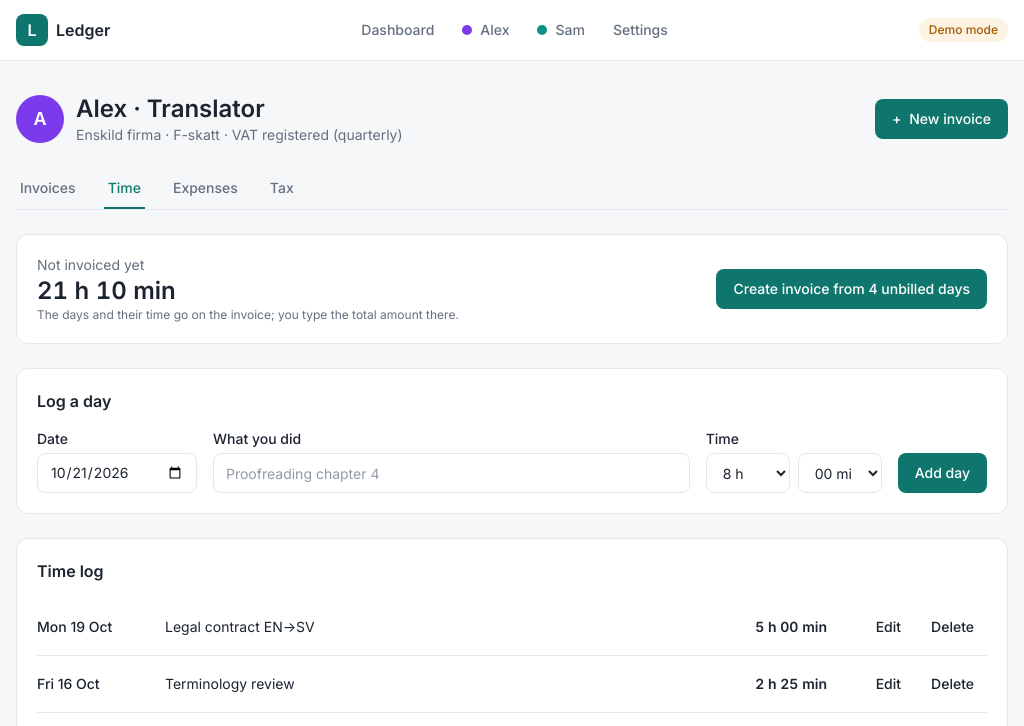
Test case: Invoice editor › lets the translator list days with their time and type one total amount
Step 1. Click the button "Create invoice from 4 unbilled days" → (852,289), box x1=716 y1=269 x2=987 y2=309
(page scrolled)
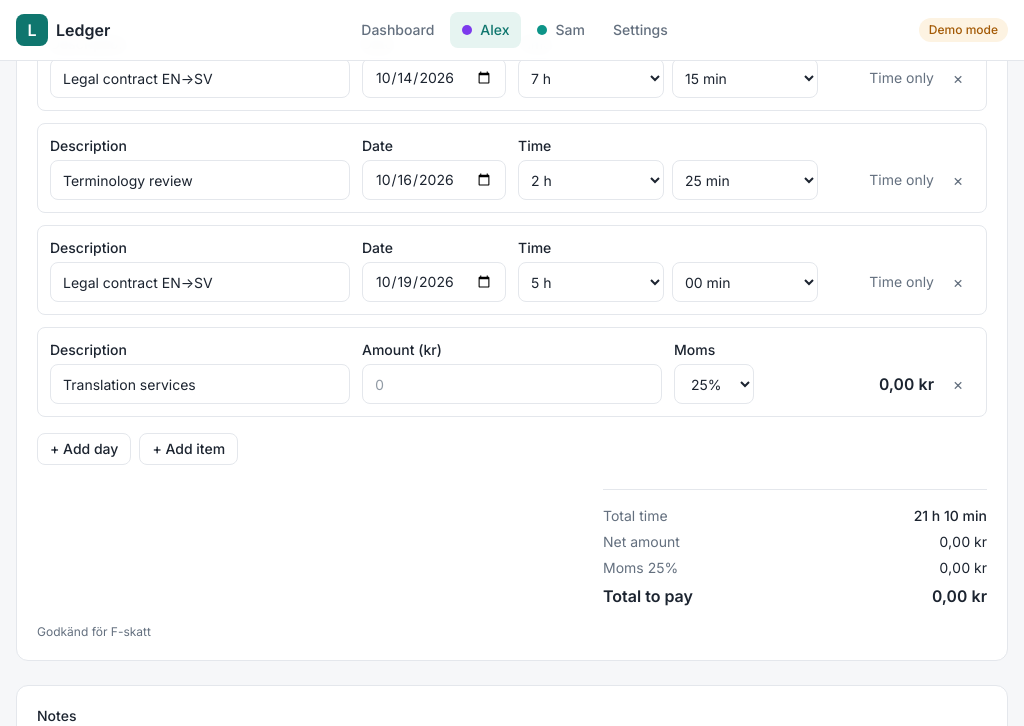
Step 2. Type "15000" into the field labelled "Amount (kr)" → (512,384), box x1=362 y1=364 x2=662 y2=404
(page scrolled)
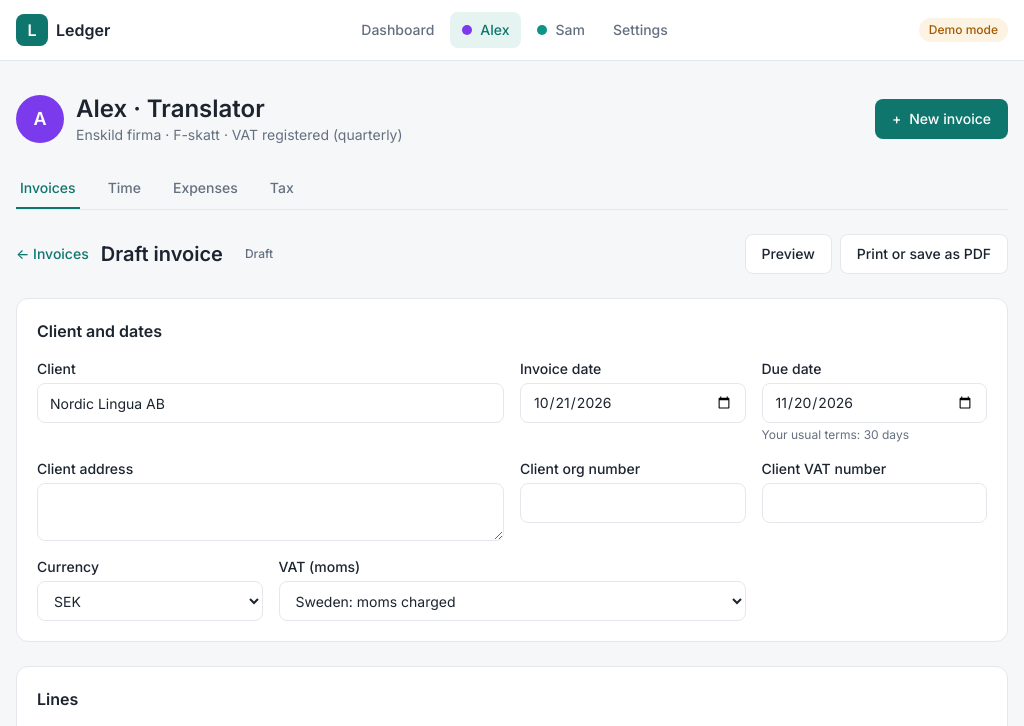
Step 3. Click the button "Preview" → (788,254), box x1=745 y1=234 x2=832 y2=274
(page scrolled)
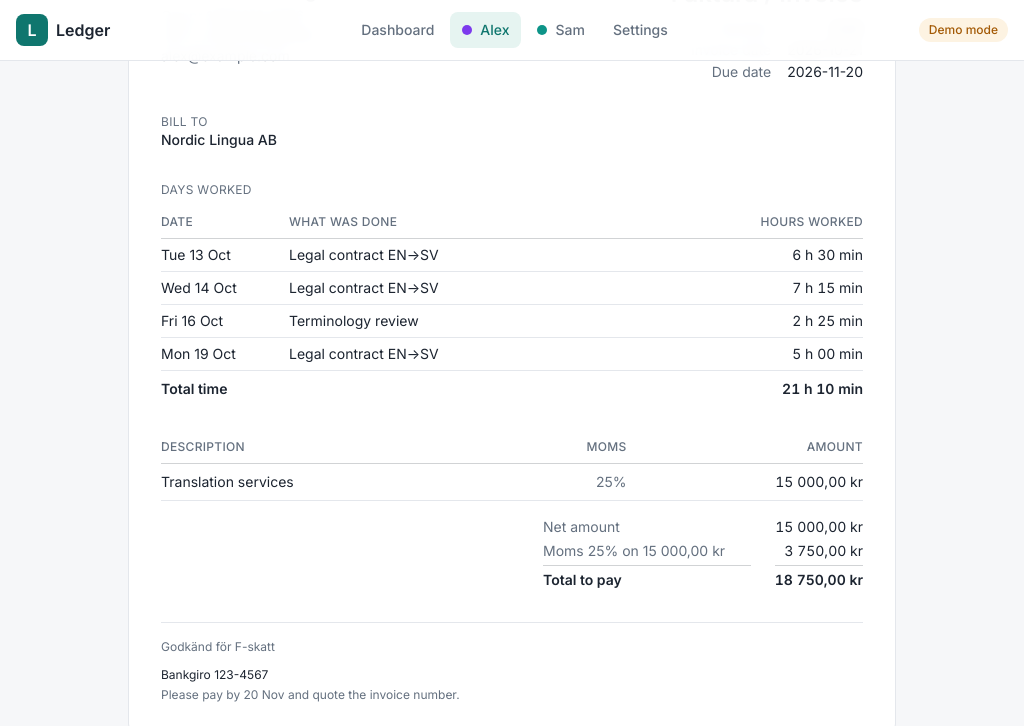
Expected: the row "Tue 13 Oct Legal contract EN→SV 6 h 30 min" does not show "25%", x1=161 y1=238 x2=863 y2=272
Now the row "Tue 13 Oct Legal contract EN→SV 6 h 30 min" is shown, box x1=161 y1=238 x2=863 y2=272
Now the text "21 h 10 min" is shown, box x1=630 y1=370 x2=863 y2=399
